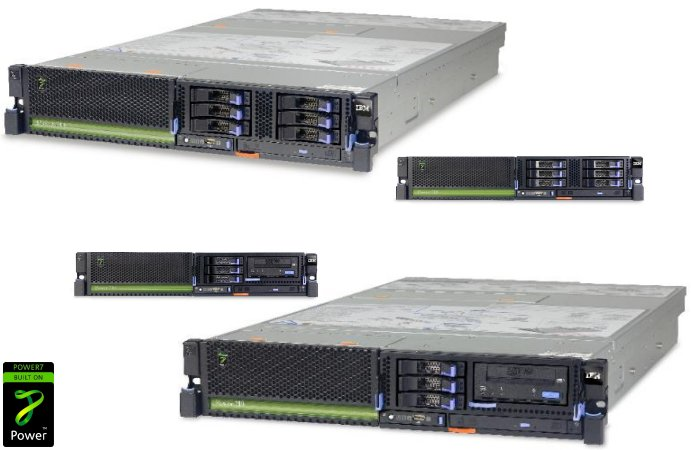ibm-server: (2, 3, 509, 175), (172, 326, 615, 450), (389, 149, 655, 213), (67, 245, 326, 304)
